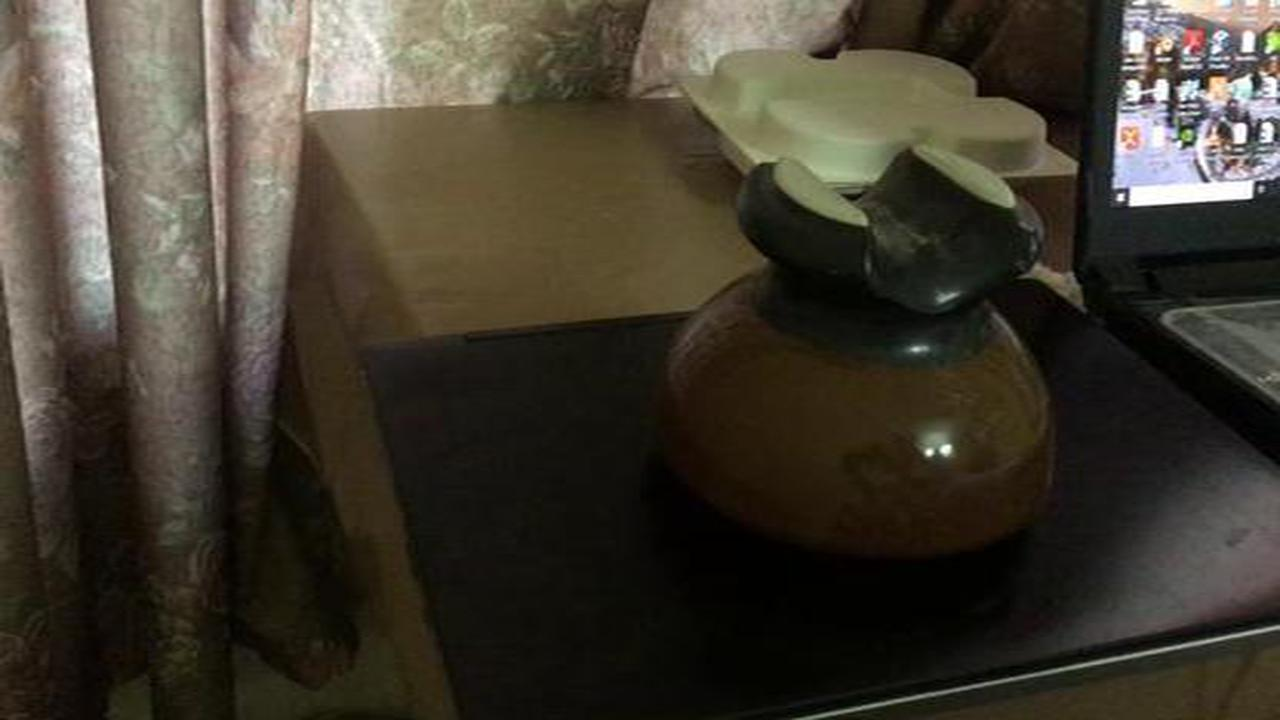insulator_pin: (631, 125, 1093, 579)
